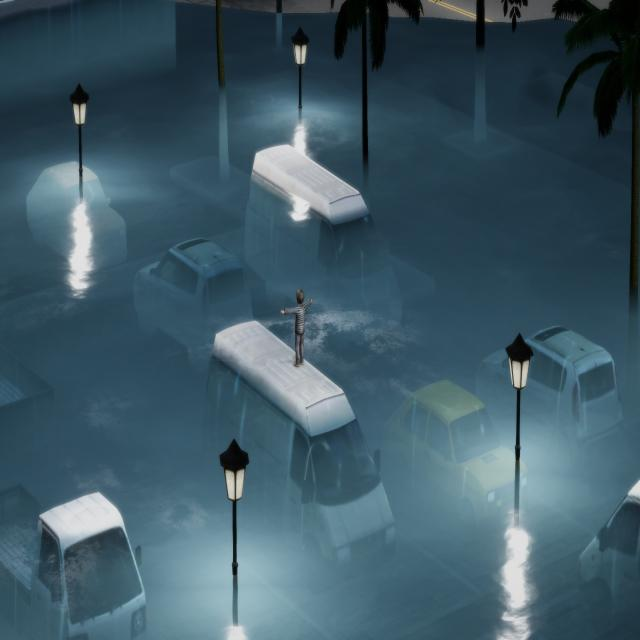Human: (276, 283, 316, 372)
